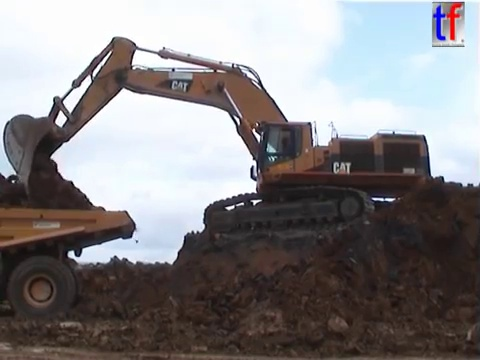excavator: (1, 32, 439, 243)
truck: (1, 203, 139, 325)
